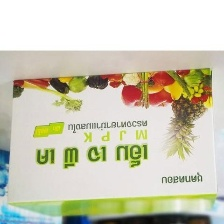book: (0, 62, 220, 224)
